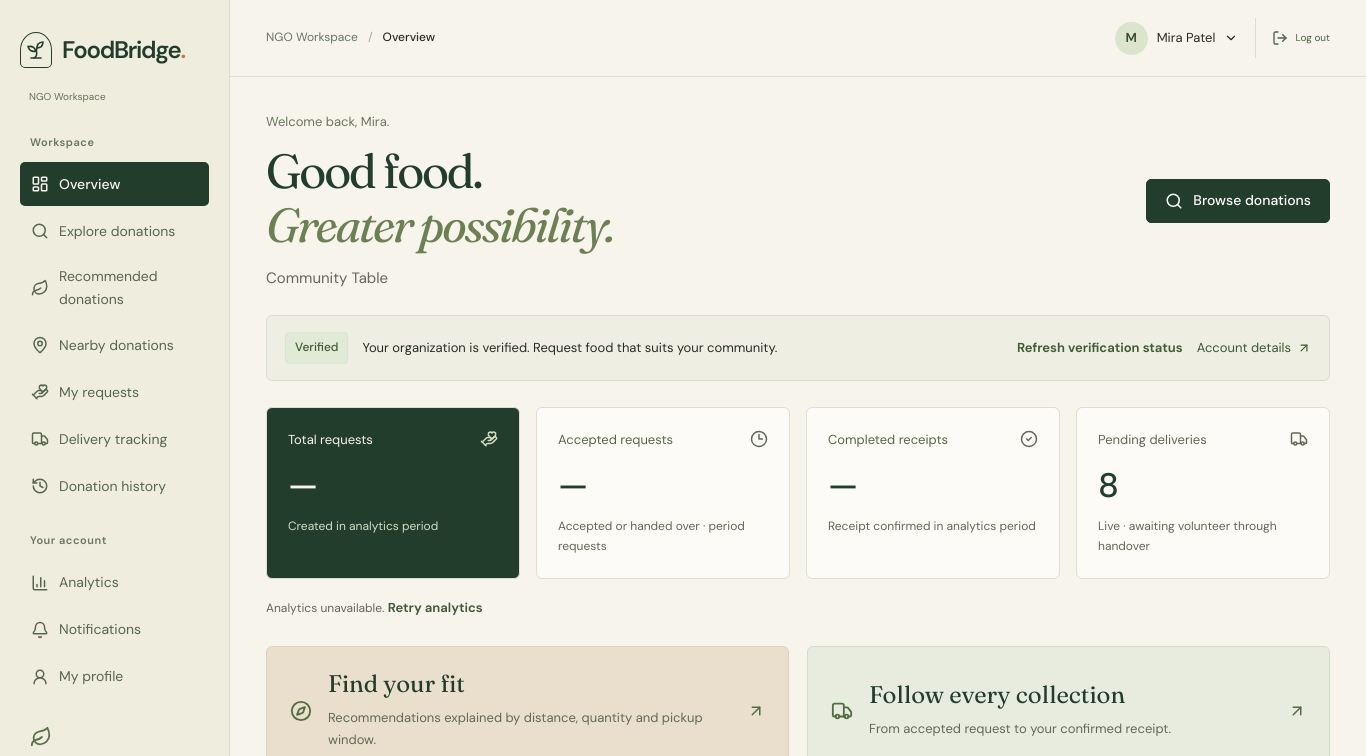
Scenario: Phase 4 NGO workspace › keeps missing analytics distinct from zero and supports retry
The image size is (1366, 756).
Expected: the text "—" below "Total requests" is shown, [288,463,317,508]
Click the button "Retry analytics".
click(435, 608)  # box [388,591,483,624]
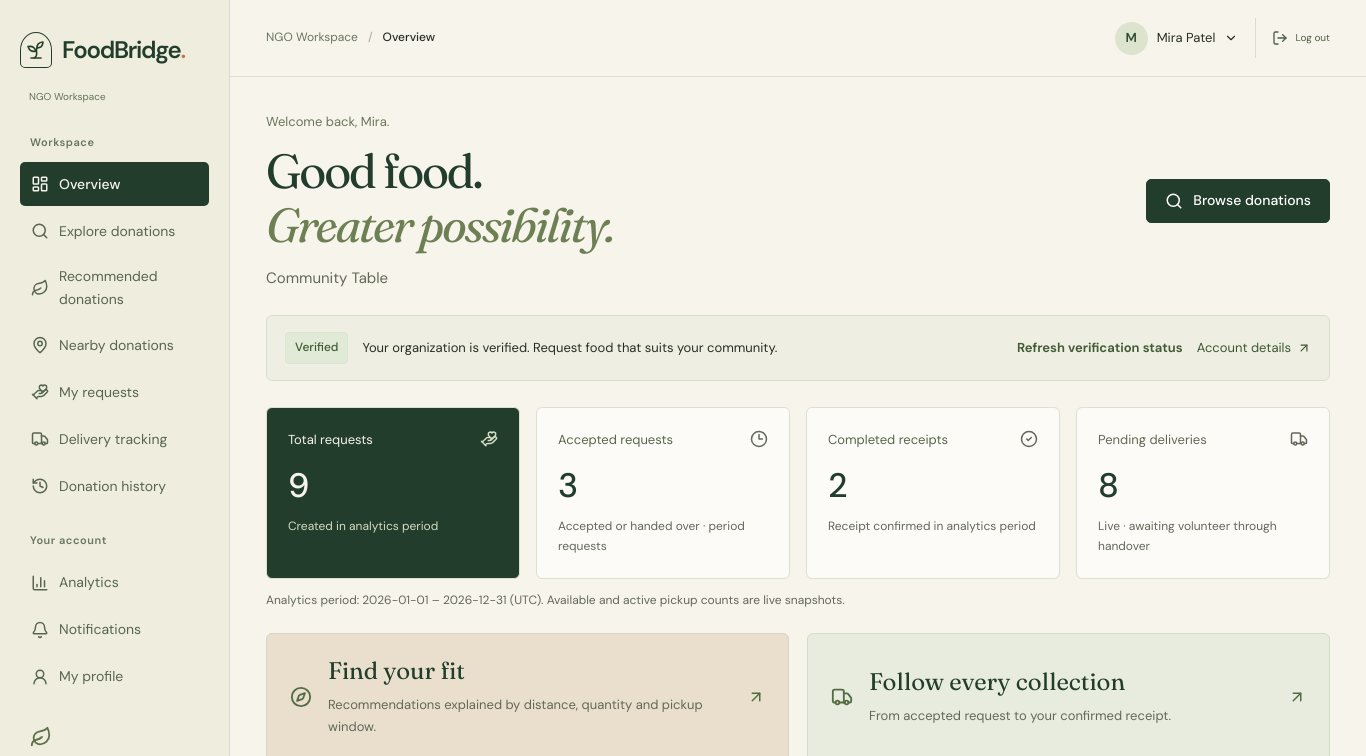
Expected: the text "9" is shown, [288,463,308,508]
